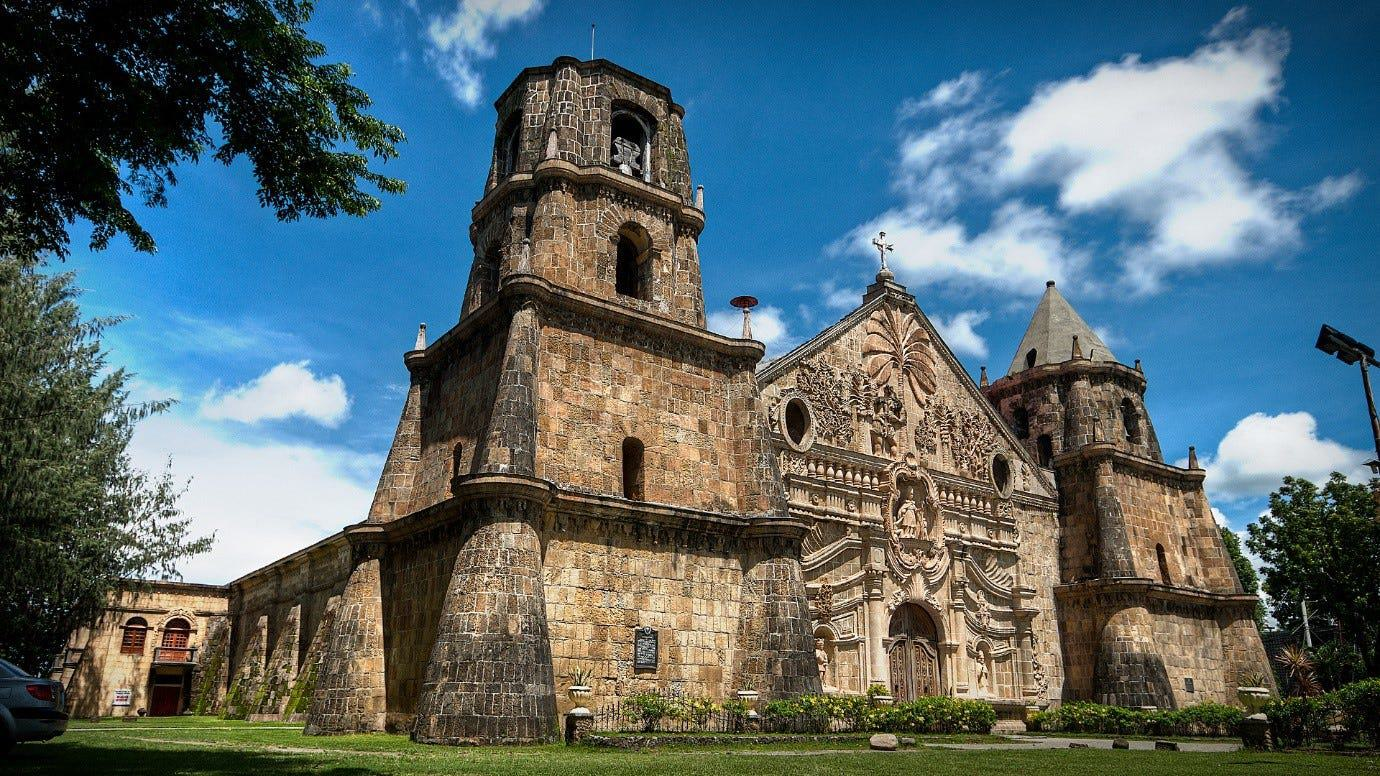Miagao Church: (322, 23, 1277, 728)
